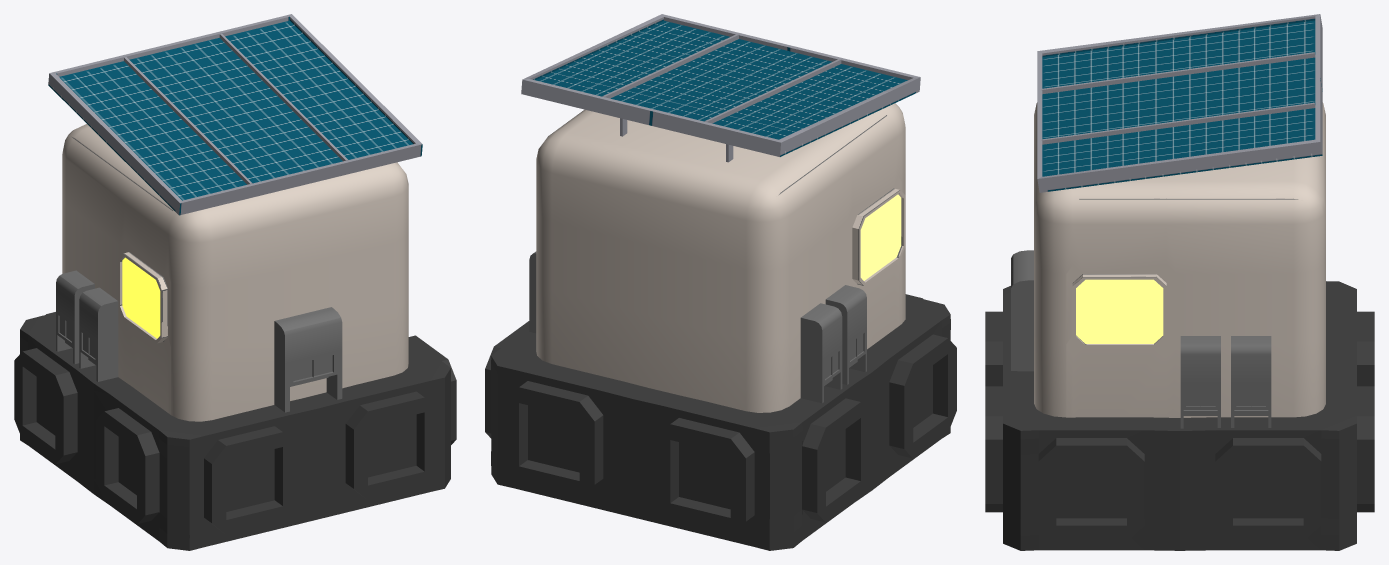
File: Crafter.fbx
3 views of the same model, side by side, from view 1: azimuth 30°, elevation 25°; view 2: azimuth 150°, elevation 25°; view 3: azimuth 270°, elevation 25° (orthographic). The views are drawn at different scales.
Visible parts, largest first — view 1: Cube.003, Cube.001, Light; view 2: Cube.003, Cube.001, Light; view 3: Cube.003, Cube.001, Light.
Boxes of the visible parts, x1=… form: Cube.003: x1=48, y1=14, x2=422, y2=421; Cube.001: x1=14, y1=312, x2=456, y2=550; Light: x1=122, y1=257, x2=160, y2=338; Cube.003: x1=521, y1=14, x2=920, y2=412; Cube.001: x1=485, y1=294, x2=956, y2=550; Light: x1=860, y1=194, x2=901, y2=280; Cube.003: x1=1011, y1=14, x2=1325, y2=428; Cube.001: x1=985, y1=281, x2=1374, y2=550; Light: x1=1076, y1=279, x2=1163, y2=343.
Size of the model in its own units: 220 by 249 by 220.
Materials: 3 (1 with a texture image).
